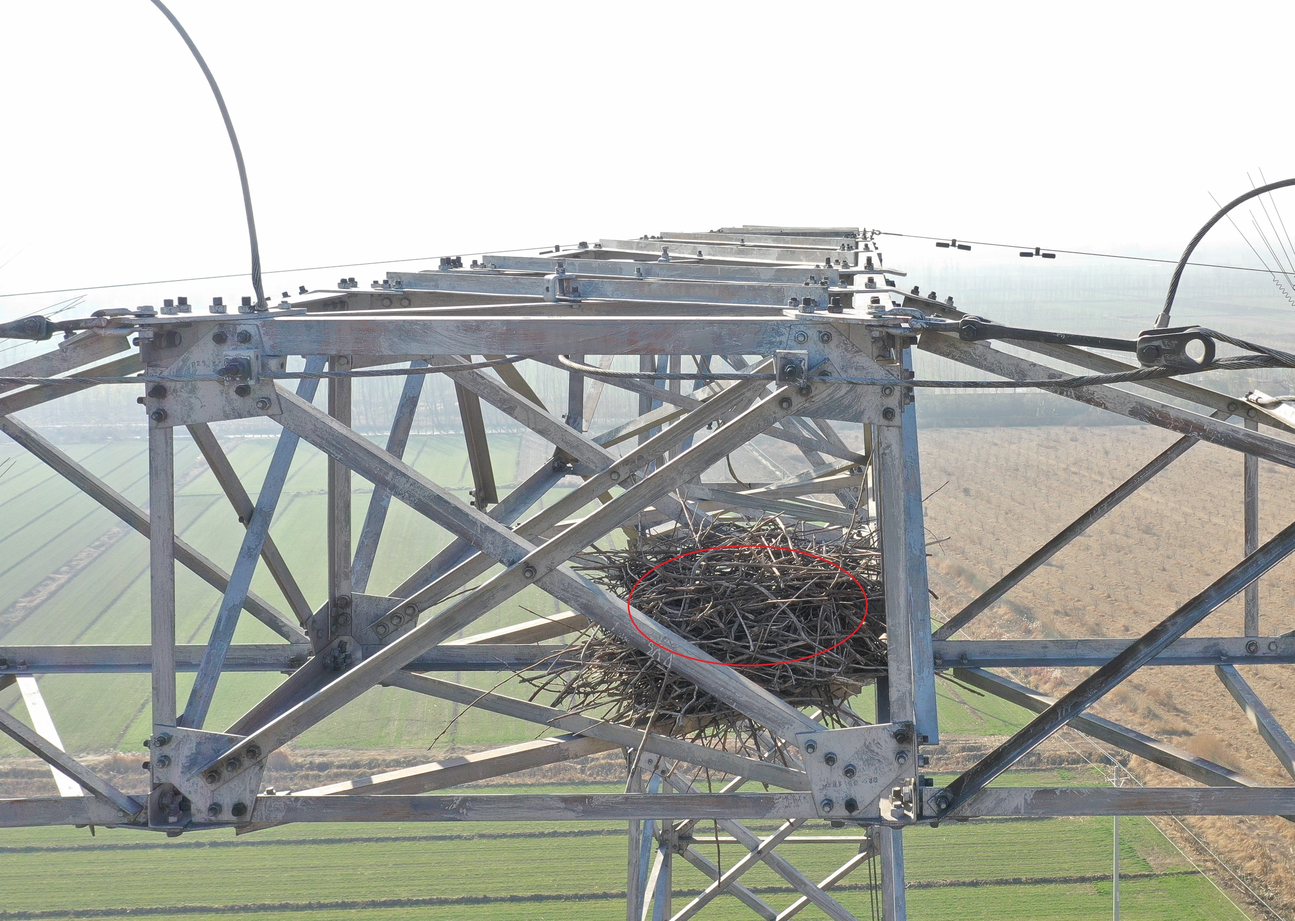damper_defect: (935, 237, 973, 252), (1018, 246, 1057, 260)
